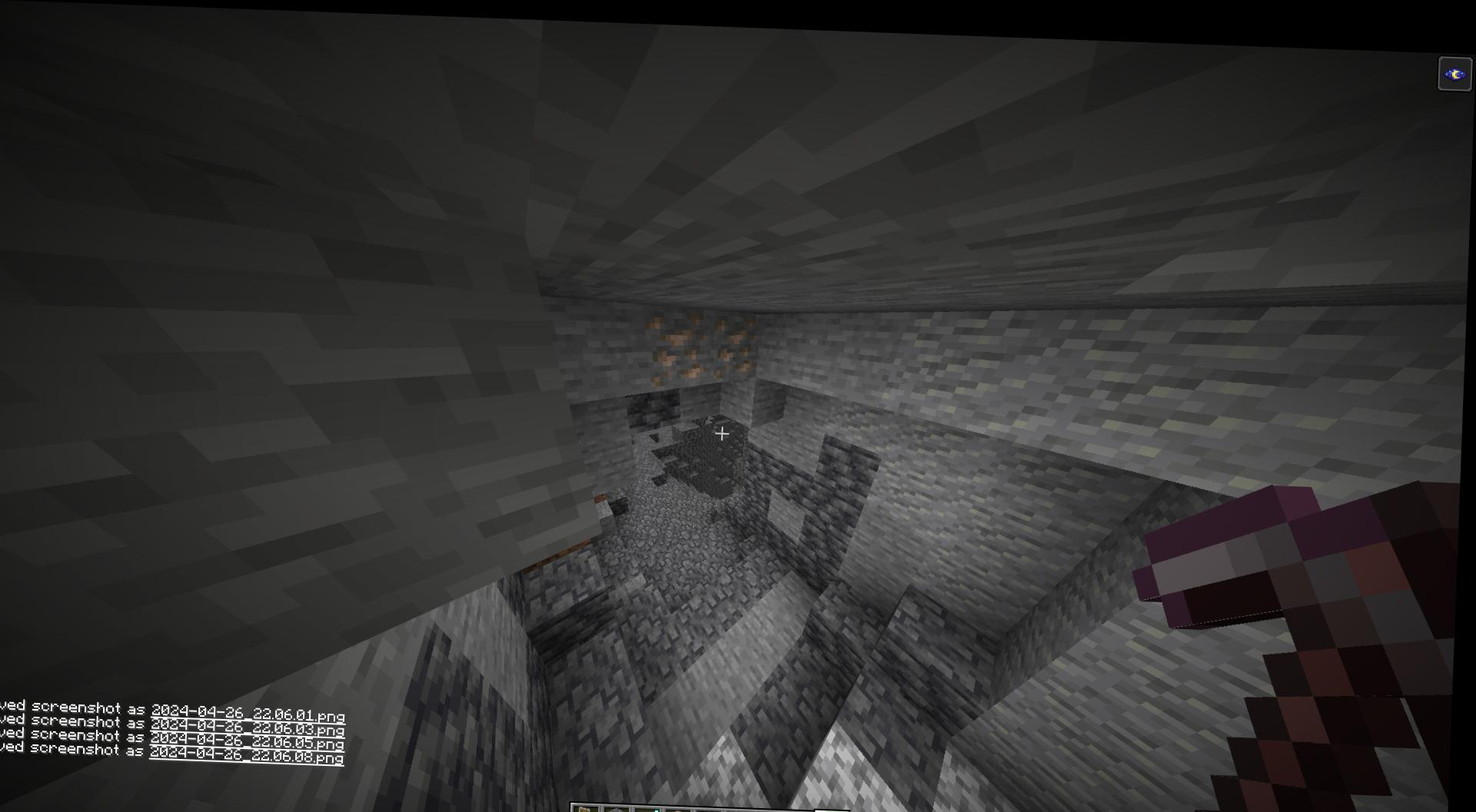iron ore: (647, 298, 713, 385), (701, 296, 765, 379)
